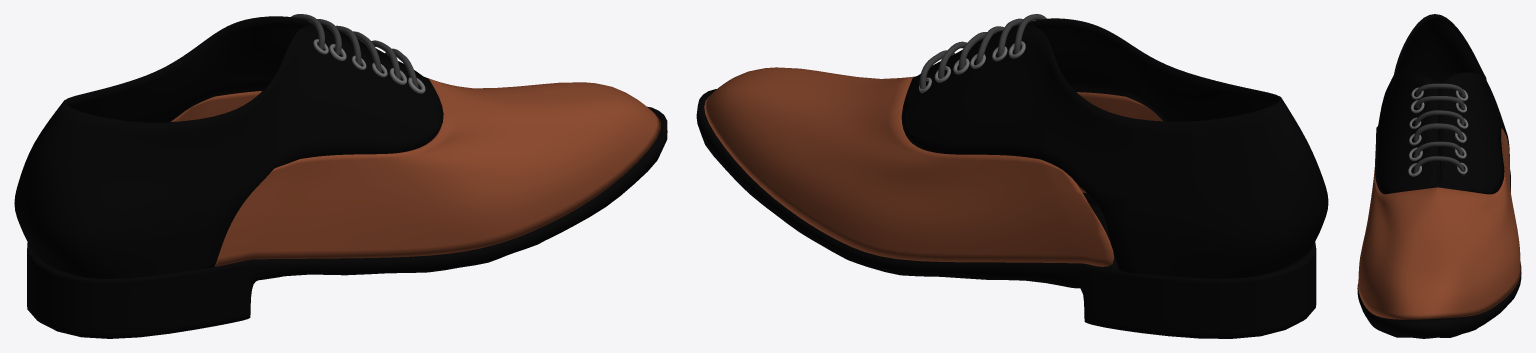
File: asset.glb
3 renders of one model, left to right at view 1: azimuth 30°, elevation 25°; view 2: azimuth 150°, elevation 25°; view 3: azimuth 270°, elevation 25°, orthographic. The views are drawn at different scales.
Visible parts, largest first — view 1: Cube.002, Cube, Cube.001; view 2: Cube.002, Cube, Cube.001; view 3: Cube, Cube.002, Cube.001, BézierCurve.003, BézierCurve.005, BézierCurve, BézierCurve.004, BézierCurve.002, BézierCurve.001.
Boxes of the visible parts, x1=… form: Cube.002: x1=14, y1=16, x2=443, y2=278; Cube: x1=171, y1=78, x2=660, y2=266; Cube.001: x1=27, y1=106, x2=667, y2=338; Cube.002: x1=901, y1=18, x2=1328, y2=278; Cube: x1=704, y1=67, x2=1162, y2=266; Cube.001: x1=696, y1=89, x2=1316, y2=338; Cube: x1=1358, y1=127, x2=1520, y2=319; Cube.002: x1=1375, y1=14, x2=1509, y2=194; Cube.001: x1=1357, y1=115, x2=1521, y2=338; BézierCurve.003: x1=1414, y1=123, x2=1463, y2=141; BézierCurve.005: x1=1413, y1=156, x2=1465, y2=175; BézierCurve: x1=1416, y1=83, x2=1465, y2=96; BézierCurve.004: x1=1414, y1=141, x2=1462, y2=157; BézierCurve.002: x1=1415, y1=110, x2=1464, y2=126; BézierCurve.001: x1=1415, y1=96, x2=1464, y2=109.
Size of the model in its own units: 3.63 by 1.37 by 1.15.
